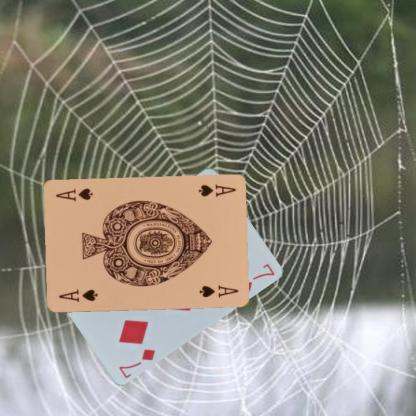7d: (116, 346, 157, 379)
As: (55, 287, 99, 304), (195, 182, 237, 198)
